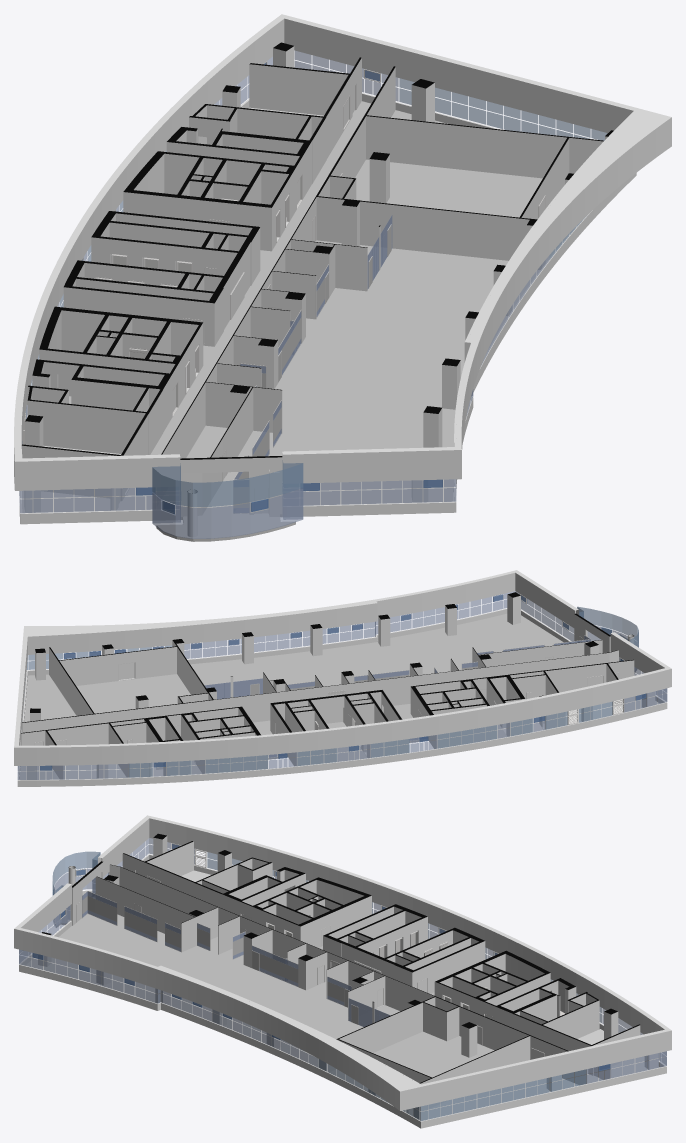
3 renders of one model, top to bottom at view 1: azimuth 30°, elevation 25°; view 2: azimuth 150°, elevation 25°; view 3: azimuth 270°, elevation 25°, orthographic. The views are drawn at different scales.
Visible parts, largest first — view 1: A1-13F-Wall1, A1-13F-Floor, A1-13F-Dry Wall, A1-13F-In Dry Wall, A1-13F-Glass1, A1-13F-Column, A1-13F-Glass2, A1-13F-Glass Wall, A1-13F-Wall2, A1-13F-Door, A1-13F-Elevator, A1-13F-Glass3; view 2: A1-13F-Wall1, A1-13F-In Dry Wall, A1-13F-Floor, A1-13F-Dry Wall, A1-13F-Glass1, A1-13F-Glass2, A1-13F-Column, A1-13F-Glass Wall, A1-13F-Door, A1-13F-Glass3, A1-13F-Wall2, A1-13F-Vent; view 3: A1-13F-Wall1, A1-13F-Floor, A1-13F-Dry Wall, A1-13F-In Dry Wall, A1-13F-Glass1, A1-13F-Glass Wall, A1-13F-Glass2, A1-13F-Column, A1-13F-Door, A1-13F-Wall2, A1-13F-Glass3, A1-13F-Elevator.
Part boxes in pixels (x1,y1,x2,y2): A1-13F-Wall1: (21,57,603,515); A1-13F-Floor: (22,101,573,541); A1-13F-Dry Wall: (14,14,671,490); A1-13F-In Dry Wall: (19,17,636,524); A1-13F-Glass1: (19,50,549,538); A1-13F-Column: (24,42,613,536); A1-13F-Glass2: (22,78,607,507); A1-13F-Glass Wall: (233,215,392,513); A1-13F-Wall2: (180,456,282,516); A1-13F-Door: (118,85,545,513); A1-13F-Elevator: (95,194,289,393); A1-13F-Glass3: (27,61,442,514); A1-13F-Wall1: (21,640,634,779); A1-13F-In Dry Wall: (17,572,667,786); A1-13F-Floor: (20,613,659,779); A1-13F-Dry Wall: (14,570,671,765); A1-13F-Glass1: (17,591,667,779); A1-13F-Glass2: (24,607,638,777); A1-13F-Column: (27,592,655,779); A1-13F-Glass Wall: (204,635,590,699); A1-13F-Door: (34,636,618,762); A1-13F-Glass3: (20,594,646,770); A1-13F-Wall2: (574,613,610,652); A1-13F-Vent: (567,699,623,724); A1-13F-Wall1: (95,841,640,1115); A1-13F-Floor: (26,870,659,1119); A1-13F-Dry Wall: (14,815,671,1110); A1-13F-In Dry Wall: (19,817,666,1128); A1-13F-Glass1: (19,838,666,1083); A1-13F-Glass Wall: (82,891,390,1026); A1-13F-Glass2: (52,851,602,1120); A1-13F-Column: (38,833,658,1120); A1-13F-Door: (76,870,600,1077); A1-13F-Wall2: (67,861,103,925); A1-13F-Glass3: (32,843,610,1071); A1-13F-Elevator: (266,923,487,1009).
Bounding box in the file's own units: 71.25 × 5.23 × 71.71.
